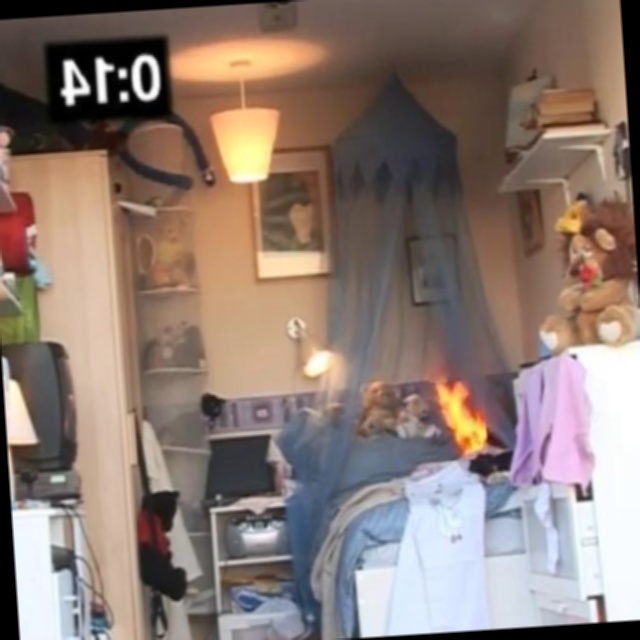fire: (399, 365, 513, 470)
